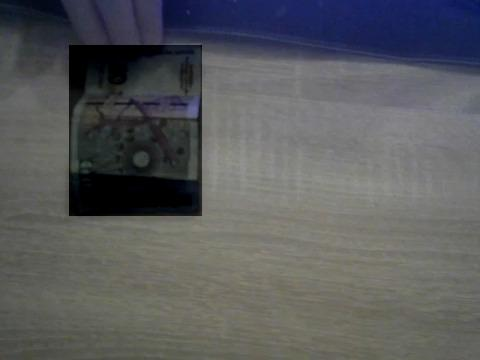10leva: (69, 45, 202, 216)
